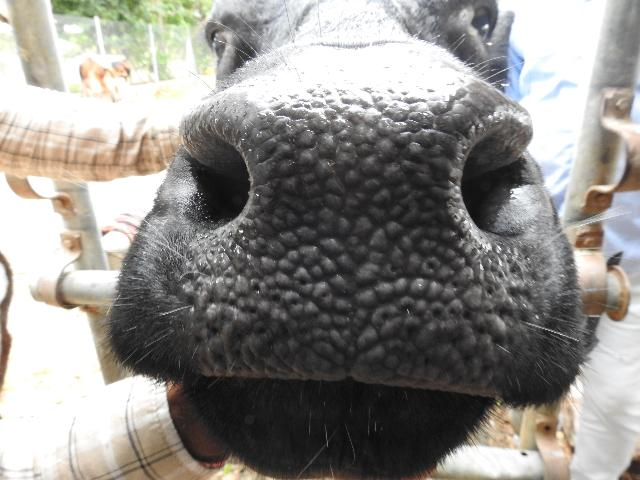Muzzle: (212, 103, 478, 379)
